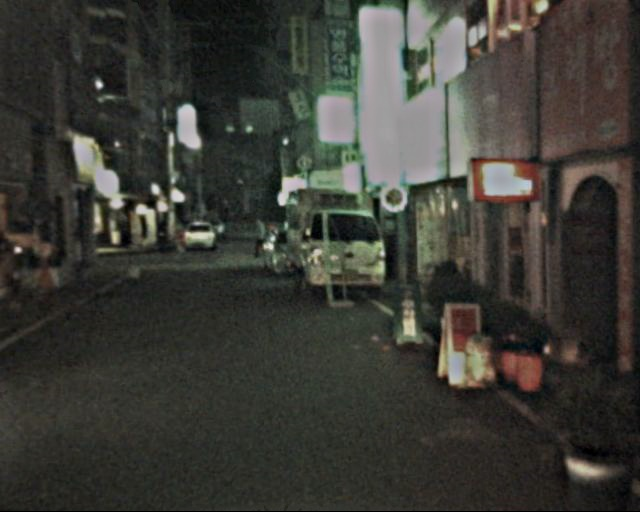person: (247, 211, 271, 264)
